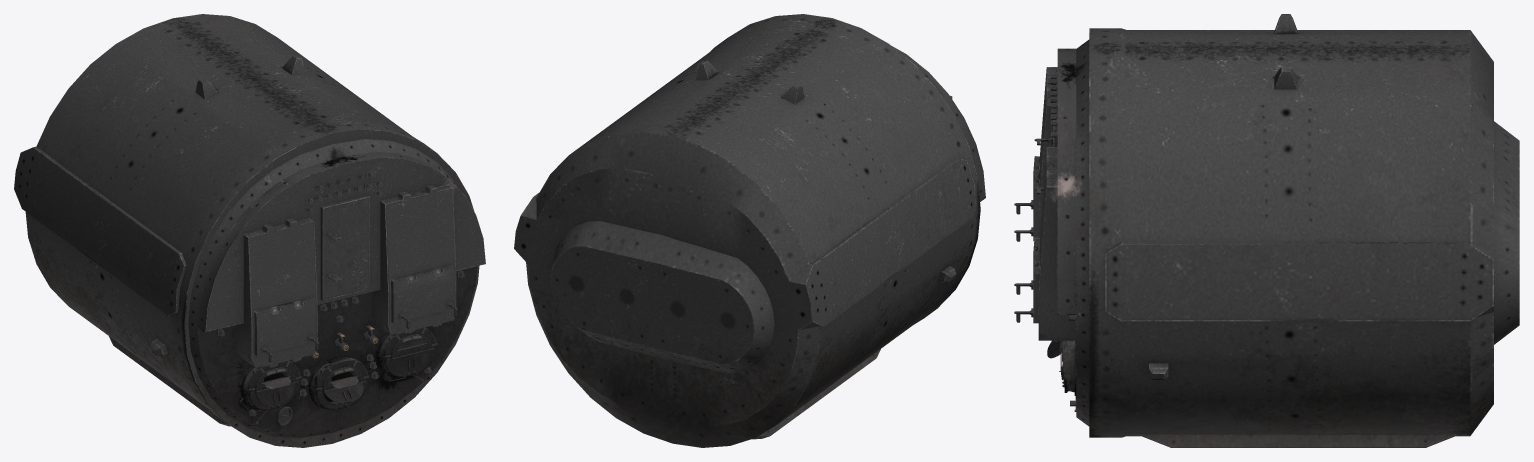
File: Gigantic Boiler.fbx
The picture shows the model from 3 angles, left to right: view 1: azimuth 30°, elevation 25°; view 2: azimuth 150°, elevation 25°; view 3: azimuth 270°, elevation 25°; orthographic projection. The views are drawn at different scales.
Parts seen in each view (by area): view 1: Cylinder; view 2: Cylinder; view 3: Cylinder.
Part boxes in pixels (x1,y1,x2,y2): Cylinder: (14, 14, 485, 447); Cylinder: (514, 14, 985, 447); Cylinder: (1014, 14, 1519, 447).
Size of the model in its own units: 636 by 633 by 768.
